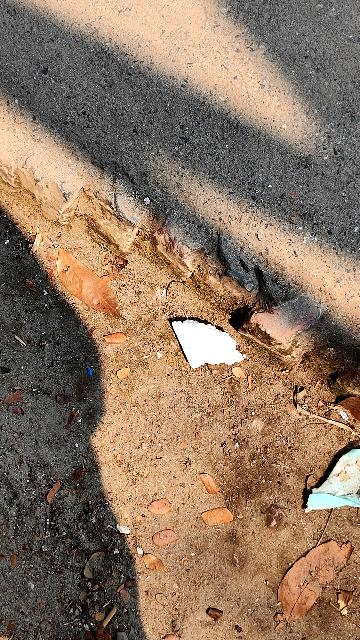cocksheet: (161, 310, 249, 379)
